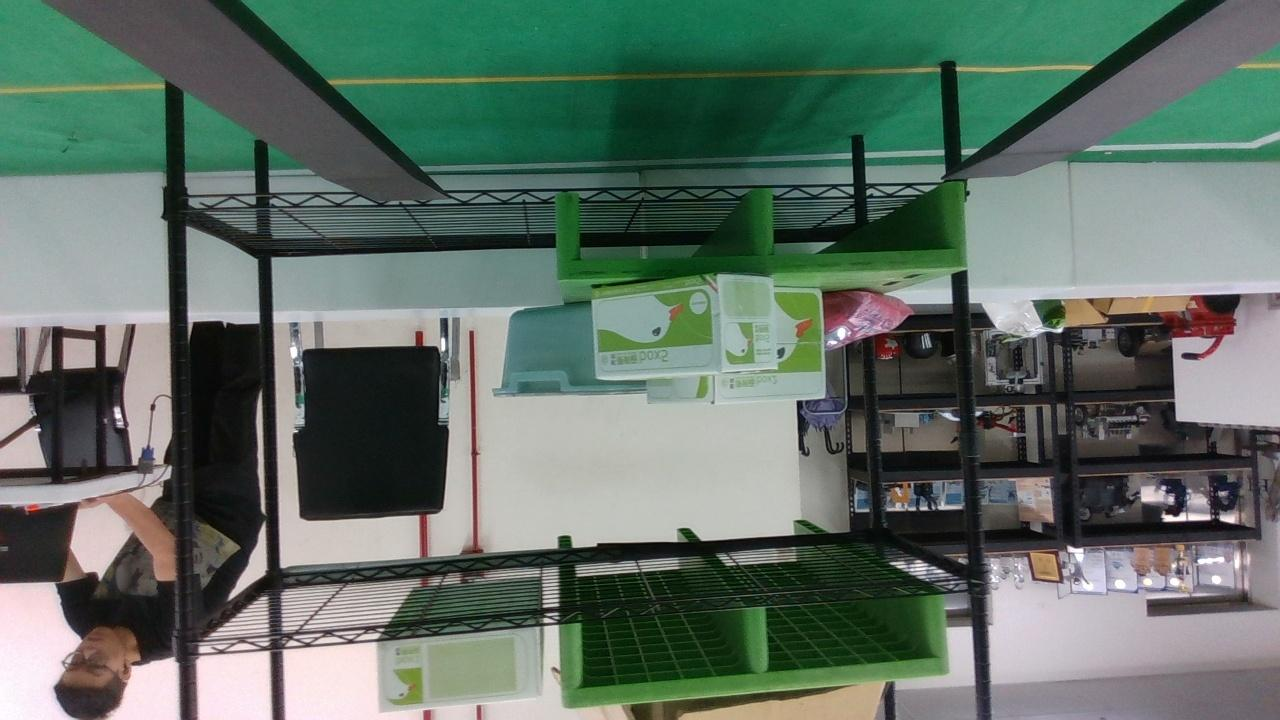Pallet: (561, 597, 954, 709), (555, 185, 972, 281)
